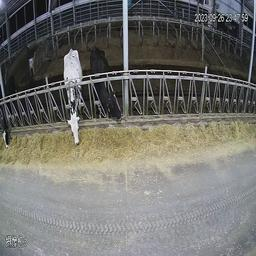cow: (88, 46, 124, 127), (63, 48, 86, 149), (1, 57, 22, 151)
